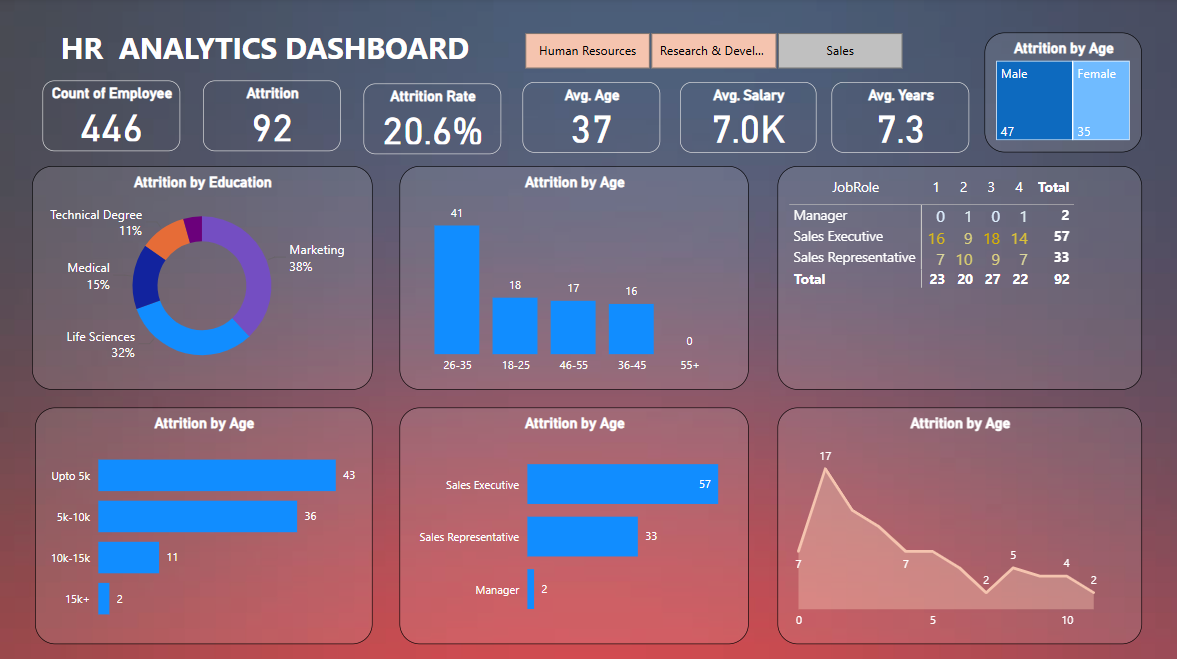

The page's visual inventory and layout, read from the dashboard file:
{"tool":"powerbi","page":{"name":"Page 1","canvas":[1280,720],"ordinal":0},"visuals":[{"type":"card","title":"Count of Employee","fields":{"Values":["CountNonNull(HR_Analytics (2).EmpID)"]},"box":[47.2,89.5,149.6,76.4],"z":0},{"type":"card","title":"Attrition Rate","fields":{"Values":["HR_Analytics (2).AttriritionRate"]},"box":[395.3,92.7,149.6,76.4],"z":1000},{"type":"card","title":"Attrition  ","fields":{"Values":["Sum(HR_Analytics (2).Attrition - Copy)"]},"box":[221.2,89.5,149.6,76.4],"z":2000},{"type":"card","title":"Avg. Age","fields":{"Values":["Avg(HR_Analytics (2).Age)"]},"box":[567.7,91.1,149.6,76.4],"z":3000},{"type":"card","title":"Avg. Salary","fields":{"Values":["Avg(HR_Analytics (2).MonthlyIncome)"]},"box":[738.5,91.1,148,76.4],"z":4000},{"type":"card","title":"Avg. Years","fields":{"Values":["Avg(HR_Analytics (2).YearsAtCompany)"]},"box":[902.7,91.1,149.6,76.4],"z":5000},{"type":"donutChart","title":"Attrition by Education","fields":{"Category":["HR_Analytics (2).EducationField"],"Y":["Sum(HR_Analytics (2).Attrition - Copy)"]},"box":[35.8,182.2,369.2,242.4],"z":6000},{"type":"columnChart","title":"Attrition by Age","fields":{"Category":["HR_Analytics (2).AgeGroup"],"Y":["Sum(HR_Analytics (2).Attrition - Copy)"]},"box":[434.3,182.2,379,242.4],"z":7000},{"type":"pivotTable","fields":{"Rows":["HR_Analytics (2).JobRole"],"Columns":["HR_Analytics (2).JobSatisfaction"],"Values":["Sum(HR_Analytics (2).Attrition - Copy)"]},"box":[844.2,182.2,395.3,242.4],"z":8000},{"type":"barChart","title":"Attrition by Age","fields":{"Category":["HR_Analytics (2).SalarySlab"],"Y":["Sum(HR_Analytics (2).Attrition - Copy)"]},"box":[39,444,366,257],"z":9000},{"type":"barChart","title":"Attrition by Age","fields":{"Category":["HR_Analytics (2).JobRole"],"Y":["Sum(HR_Analytics (2).Attrition - Copy)"]},"box":[434.3,444,379,257],"z":10000},{"type":"areaChart","title":"Attrition by Age","fields":{"Category":["HR_Analytics (2).YearsAtCompany"],"Y":["Sum(HR_Analytics (2).Attrition - Copy)"]},"box":[844.2,444,395.3,257],"z":11000},{"type":"treemap","title":"Attrition by Age","fields":{"Group":["HR_Analytics (2).Gender"],"Values":["Sum(HR_Analytics (2).Attrition - Copy)"]},"box":[1068.6,37.4,170.8,130.1],"z":12000},{"type":"slicer","fields":{"Values":["HR_Analytics (2).Department"]},"box":[544.9,30.9,458.7,52],"z":13000},{"type":"textbox","box":[61.8,26,496.1,76.4],"z":14000}]}

Visuals, with their boxes in screenshot pixels (x1, y1, x2, y2), scaled from the page's 1280x720 canvas onto the 1177x659 screenshot:
"Count of Employee" card: bbox=(43, 82, 181, 152)
"Attrition Rate" card: bbox=(363, 85, 501, 155)
"Attrition  " card: bbox=(203, 82, 341, 152)
"Avg. Age" card: bbox=(522, 83, 660, 153)
"Avg. Salary" card: bbox=(679, 83, 815, 153)
"Avg. Years" card: bbox=(830, 83, 968, 153)
"Attrition by Education" donutChart: bbox=(33, 167, 372, 389)
"Attrition by Age" columnChart: bbox=(399, 167, 748, 389)
pivotTable - HR_Analytics (2).JobRole x HR_Analytics (2).JobSatisfaction: bbox=(776, 167, 1140, 389)
"Attrition by Age" barChart: bbox=(36, 406, 372, 642)
"Attrition by Age" barChart: bbox=(399, 406, 748, 642)
"Attrition by Age" areaChart: bbox=(776, 406, 1140, 642)
"Attrition by Age" treemap: bbox=(983, 34, 1140, 153)
slicer - HR_Analytics (2).Department: bbox=(501, 28, 923, 76)
textbox: bbox=(57, 24, 513, 94)
